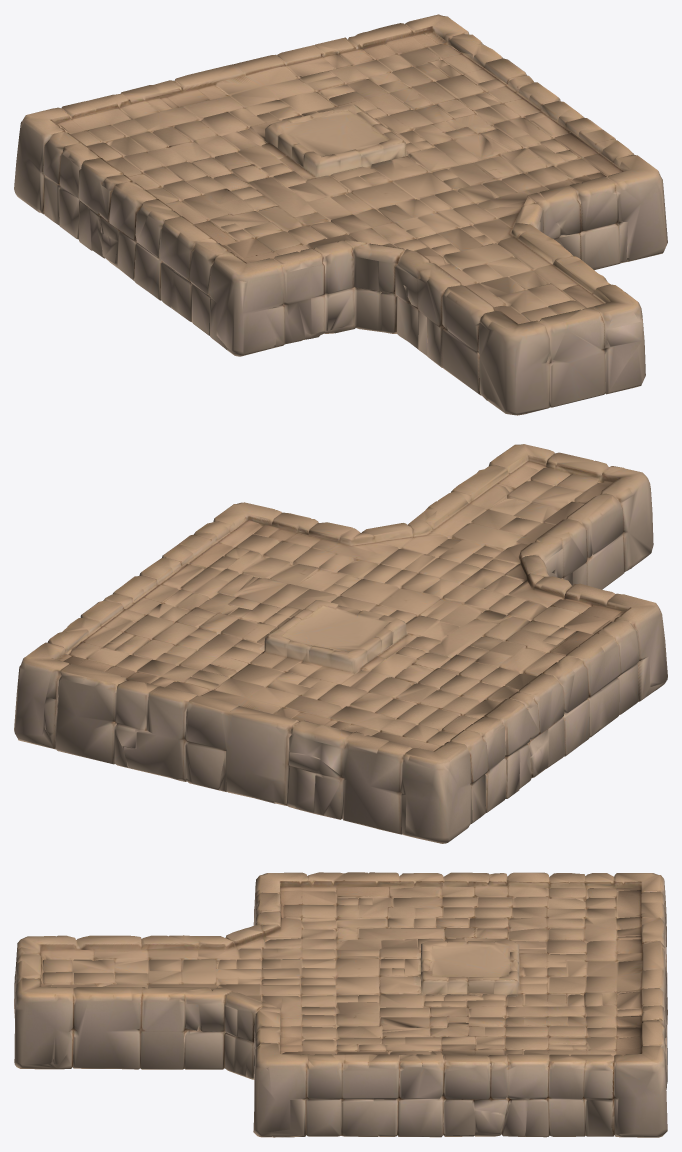
Rendered from plataforma_cubica.glb.
3 renders of one model, top to bottom at view 1: azimuth 30°, elevation 25°; view 2: azimuth 150°, elevation 25°; view 3: azimuth 270°, elevation 25°, orthographic. The views are drawn at different scales.
Visible parts, largest first — view 1: plataforma_cubica; view 2: plataforma_cubica; view 3: plataforma_cubica.
Boxes of the visible parts, <box> form: plataforma_cubica: <box>14,14,667,415</box>; plataforma_cubica: <box>14,444,667,843</box>; plataforma_cubica: <box>14,872,667,1137</box>.
Size of what is drawn, in the model's own units: 2.13 by 0.415 by 3.
Materials: 1 (1 with a texture image).
